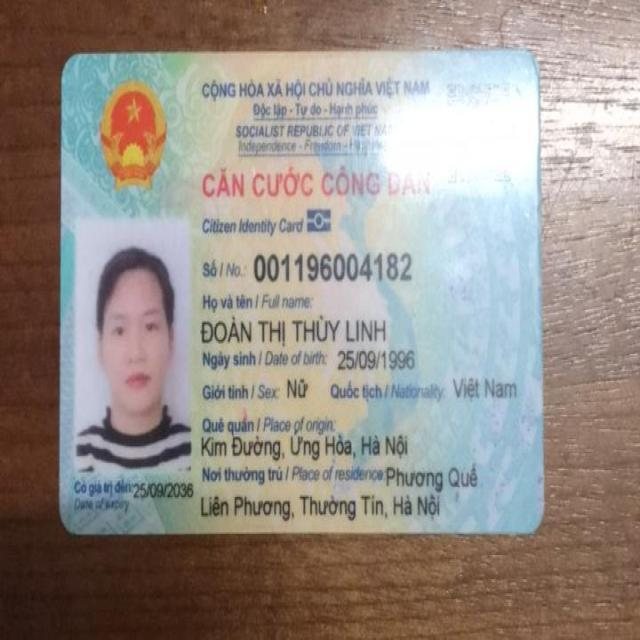bottom_left: (50, 499, 94, 546)
bottom_right: (506, 500, 548, 548)
image_person: (79, 220, 196, 474)
top_left: (46, 42, 93, 94)
top_right: (506, 33, 546, 83)
